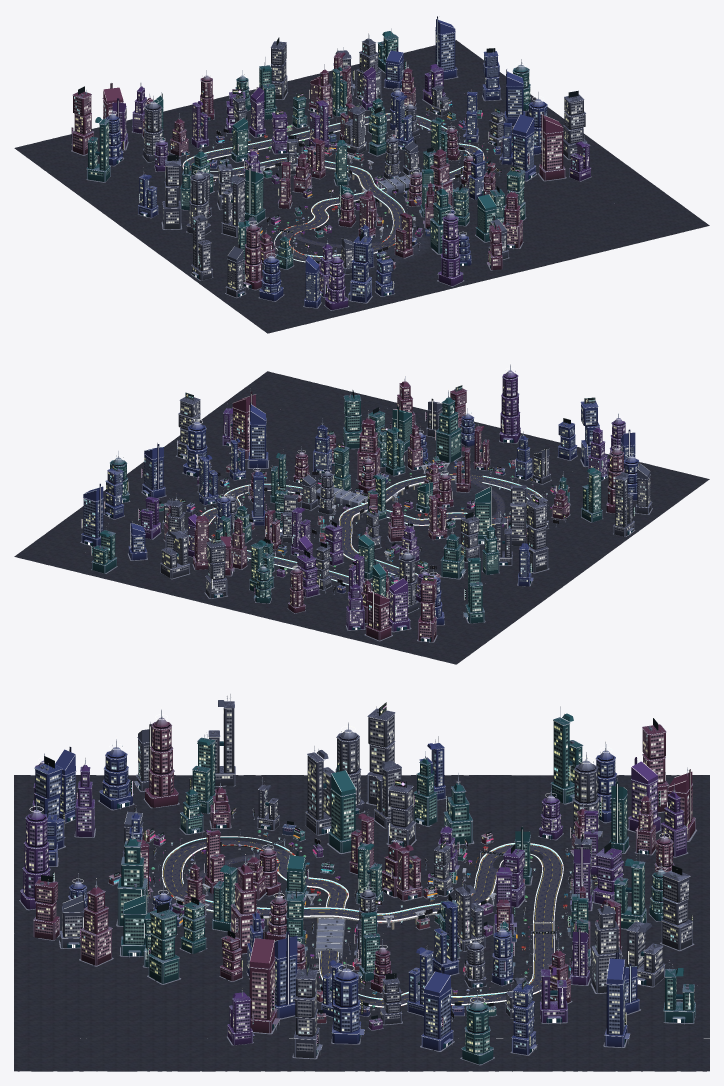
File: cidade-neon.glb
3 renders of one model, top to bottom at view 1: azimuth 30°, elevation 25°; view 2: azimuth 150°, elevation 25°; view 3: azimuth 270°, elevation 25°, orthographic. The views are drawn at different scales.
Parts seen in each view (by area): view 1: sec8_props, sec14_props, sec3_props, sec1_props, sec10_props, sec0_props, sec9_props, sec7_props, terrain28, sec2_props, sec4_props, terrain6 (+39 smaller); view 2: sec14_props, sec8_props, sec1_props, sec9_props, sec3_props, sec10_props, sec0_props, sec7_props, sec4_props, sec2_props, sec15_props, terrain0 (+40 smaller); view 3: sec14_props, sec8_props, sec3_props, sec10_props, sec1_props, sec7_props, sec9_props, sec2_props, sec0_props, terrain28, sec4_props, terrain6 (+49 smaller).
Boxes of the visible parts, x1,y1,x2,y2 form: sec8_props: [191, 212, 395, 310]; sec14_props: [71, 82, 233, 218]; sec3_props: [446, 90, 591, 181]; sec1_props: [331, 16, 458, 134]; sec10_props: [365, 144, 526, 248]; sec0_props: [256, 37, 366, 154]; sec9_props: [358, 180, 509, 286]; sec7_props: [161, 155, 324, 247]; terrain28: [524, 185, 633, 237]; sec2_props: [392, 48, 530, 150]; sec4_props: [383, 117, 495, 199]; terrain6: [60, 162, 180, 214]; sec14_props: [345, 512, 533, 642]; sec8_props: [527, 397, 652, 536]; sec1_props: [80, 483, 252, 579]; sec9_props: [425, 362, 532, 492]; sec3_props: [175, 390, 271, 505]; sec10_props: [342, 376, 440, 495]; sec0_props: [204, 490, 310, 598]; sec7_props: [474, 477, 558, 573]; sec4_props: [270, 420, 351, 515]; sec2_props: [103, 443, 266, 530]; sec15_props: [287, 532, 375, 613]; terrain0: [378, 614, 501, 664]; sec14_props: [386, 705, 696, 862]; sec8_props: [32, 693, 235, 866]; sec3_props: [227, 929, 433, 1059]; sec10_props: [79, 849, 287, 984]; sec1_props: [491, 892, 695, 1047]; sec7_props: [235, 702, 401, 867]; sec9_props: [19, 798, 224, 948]; sec2_props: [402, 896, 537, 1065]; sec0_props: [455, 850, 694, 966]; terrain28: [86, 985, 211, 1038]; sec4_props: [219, 883, 380, 987]; terrain6: [460, 775, 573, 827].
Size of the model in its own units: 675 by 113 by 670.
Materials: 38 (20 with a texture image).
